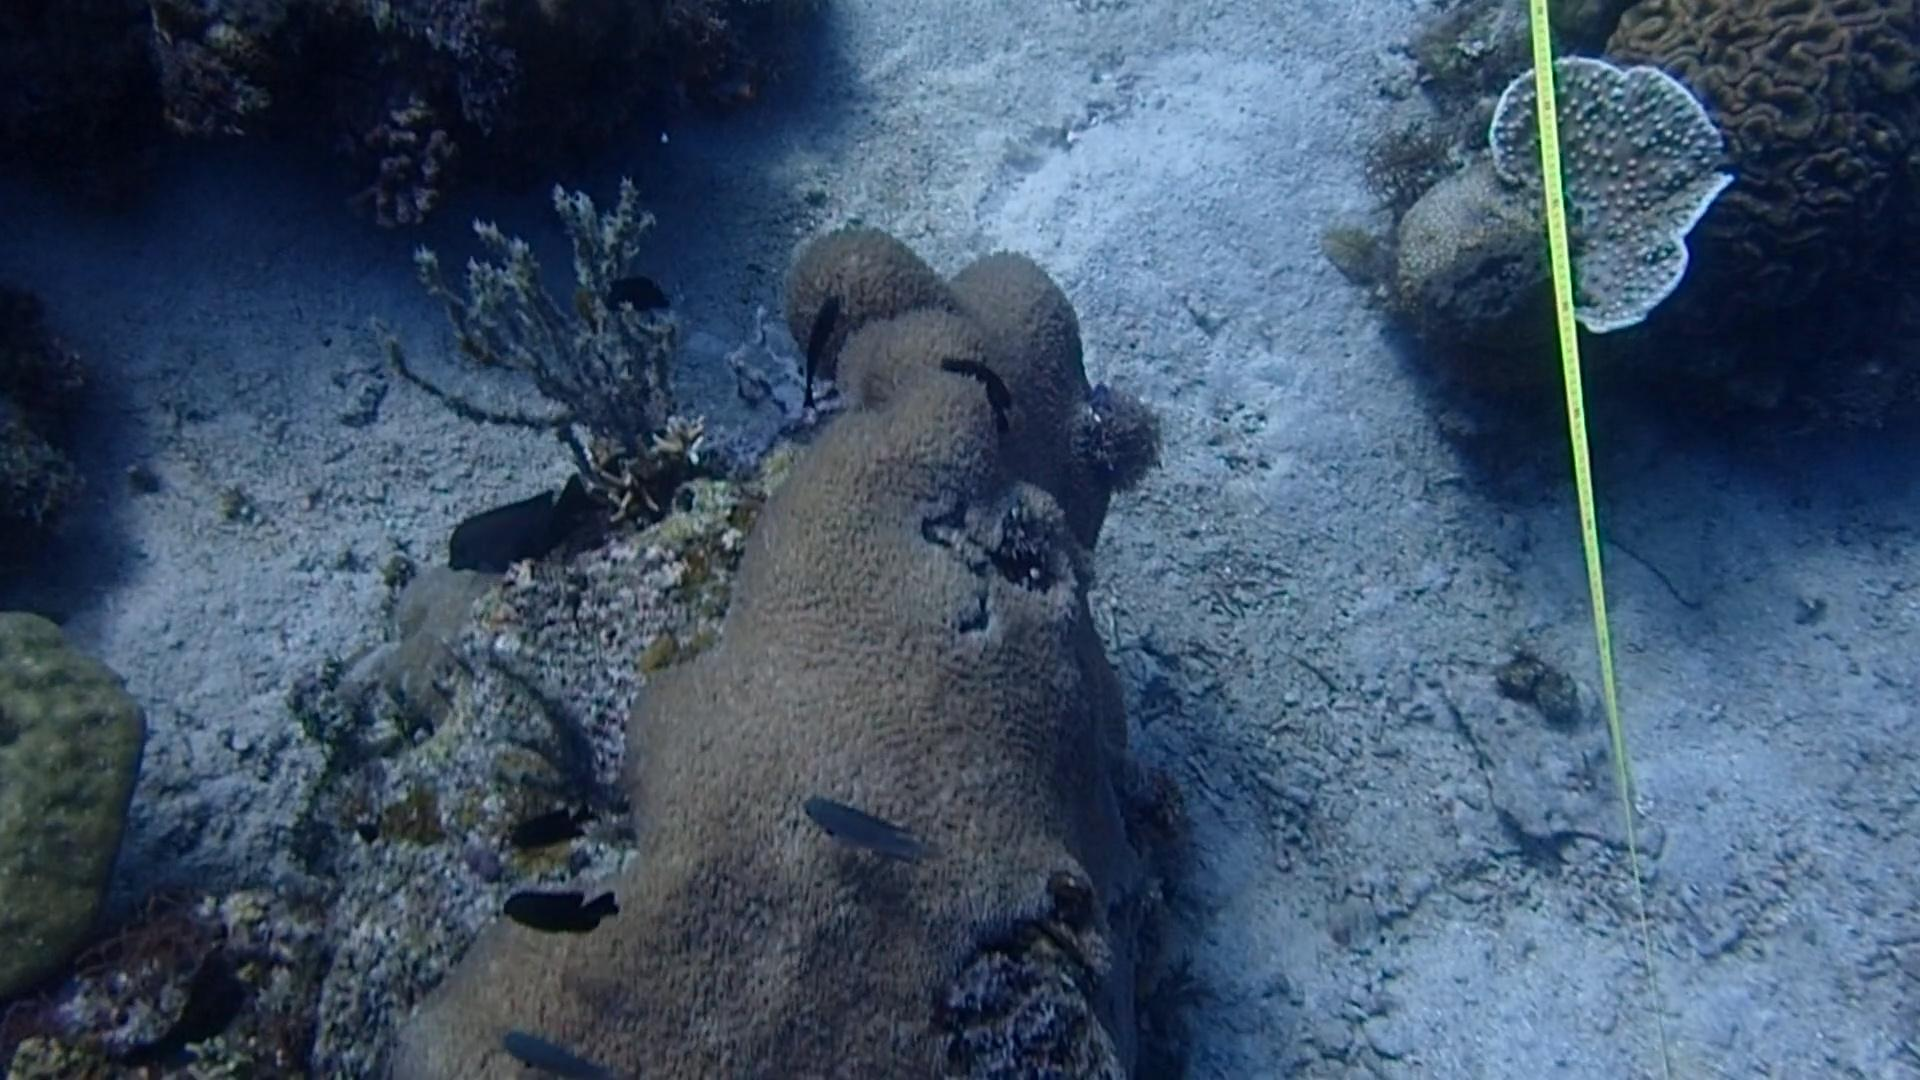Big Dark Blue Fish: (417, 491, 596, 572)
Dark Fish: (498, 878, 632, 938), (487, 799, 599, 855), (947, 344, 1018, 430), (793, 284, 852, 384), (597, 265, 673, 324)
Light Fish: (789, 787, 918, 876), (496, 1026, 616, 1080)
